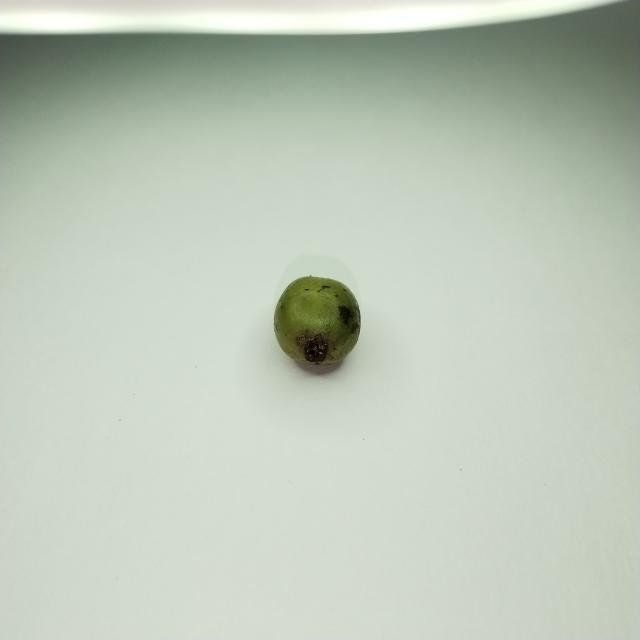Infectado: (274, 277, 359, 362)
